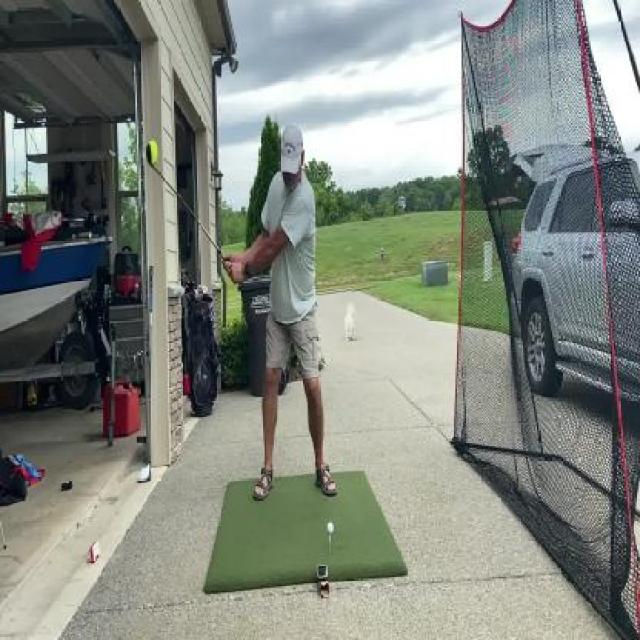club head: (146, 138, 159, 172)
